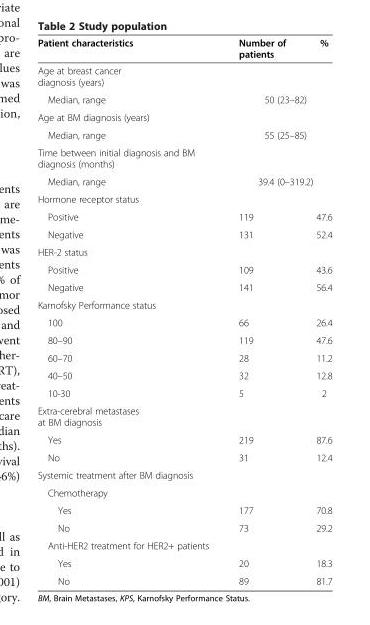table: (36, 36, 331, 586)
table column: (36, 36, 223, 586), (223, 36, 300, 586), (300, 36, 331, 586)
table column header: (36, 36, 331, 61)
table projected row header: (36, 61, 331, 90), (36, 143, 331, 172), (36, 401, 331, 430), (36, 189, 331, 207), (36, 242, 331, 260), (36, 295, 331, 313), (36, 465, 331, 483), (36, 483, 331, 501), (36, 536, 331, 554), (36, 108, 331, 125)
table row: (36, 61, 331, 90), (36, 143, 331, 172), (36, 401, 331, 430), (36, 36, 331, 61), (36, 90, 331, 108), (36, 125, 331, 143), (36, 189, 331, 207), (36, 207, 331, 225), (36, 242, 331, 260), (36, 260, 331, 278), (36, 295, 331, 313), (36, 313, 331, 331), (36, 348, 331, 366), (36, 366, 331, 384), (36, 430, 331, 448), (36, 465, 331, 483), (36, 483, 331, 501), (36, 518, 331, 536), (36, 536, 331, 554), (36, 108, 331, 125), (36, 172, 331, 189), (36, 225, 331, 242), (36, 278, 331, 295), (36, 331, 331, 348), (36, 384, 331, 401), (36, 448, 331, 465), (36, 501, 331, 518), (36, 554, 331, 571), (36, 571, 331, 586)
table spanning cell: (223, 90, 331, 108), (223, 125, 331, 143), (223, 172, 331, 189)
